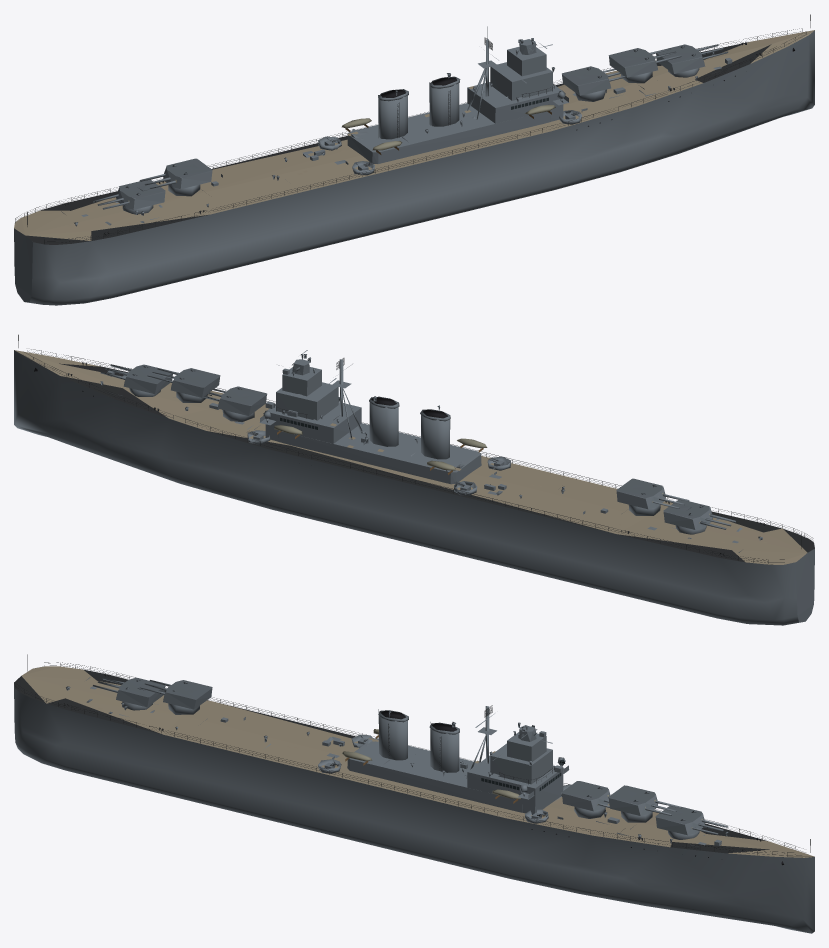
Rendered from brooklyn_lod.glb.
3 views of the same model, one above another, from view 1: azimuth 30°, elevation 25°; view 2: azimuth 150°, elevation 25°; view 3: azimuth 330°, elevation 25° (orthographic).
Parts seen in each view (by area): view 1: brooklyn_lod; view 2: brooklyn_lod; view 3: brooklyn_lod.
Part boxes in pixels (<box>): brooklyn_lod: <box>14,14,814,305</box>; brooklyn_lod: <box>14,334,814,625</box>; brooklyn_lod: <box>14,654,814,933</box>.
Bounding box in the file's own units: 185 × 36.5 × 18.88.
